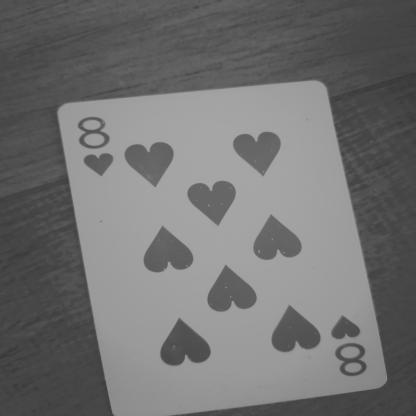8H: (68, 111, 131, 180), (324, 310, 382, 374)
